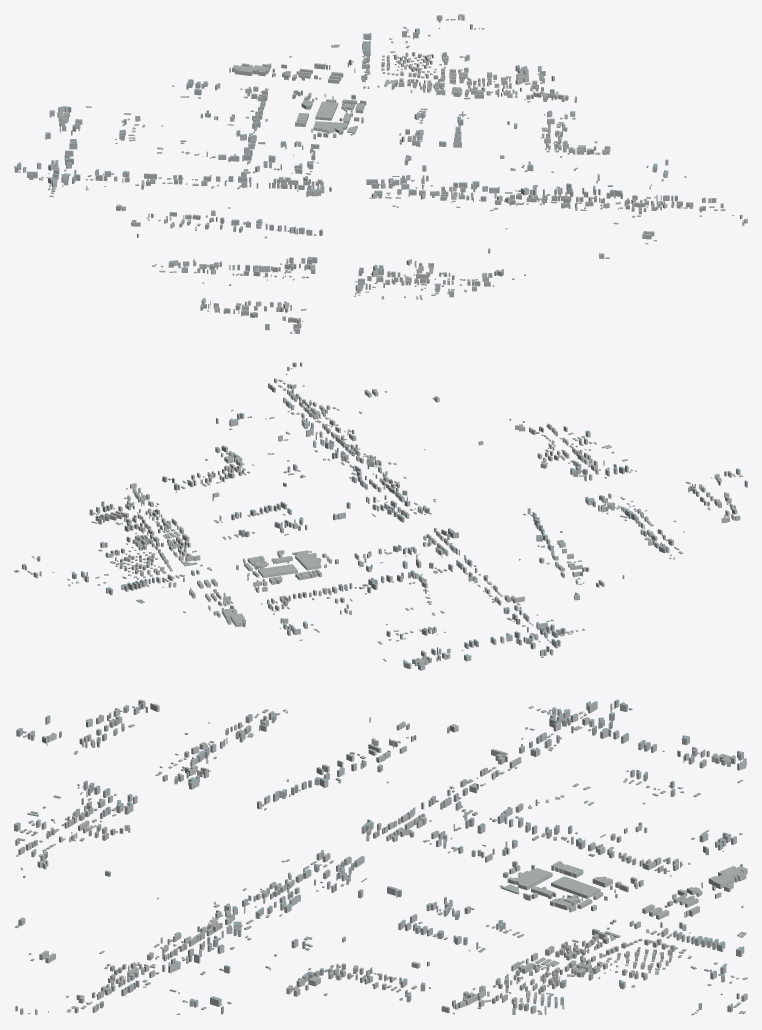
The model's file is far.glb.
The picture shows the model from 3 angles, top to bottom: view 1: azimuth 30°, elevation 25°; view 2: azimuth 150°, elevation 25°; view 3: azimuth 270°, elevation 25°; orthographic projection. The views are drawn at different scales.
Bounding box in the file's own units: 2098 × 24.1 × 2093.
